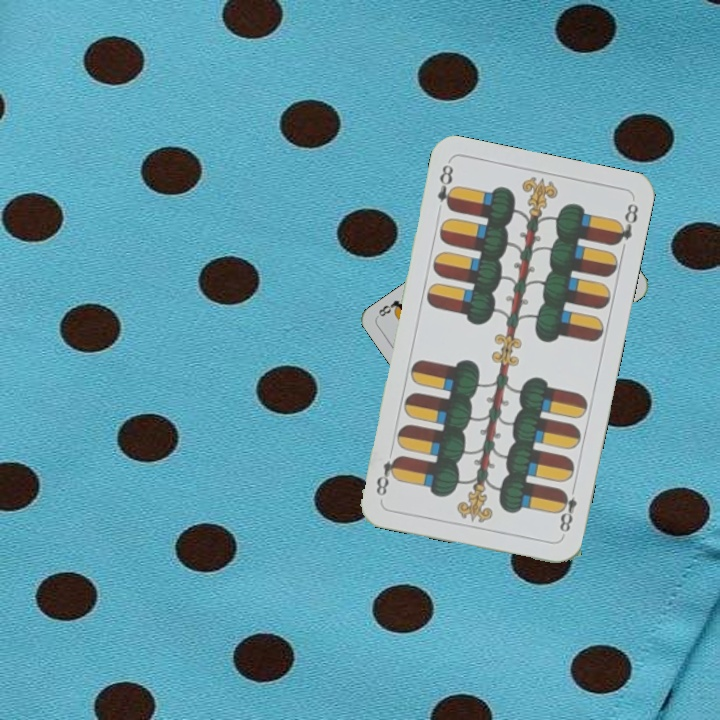E8: (553, 481, 580, 535), (433, 159, 459, 213)
